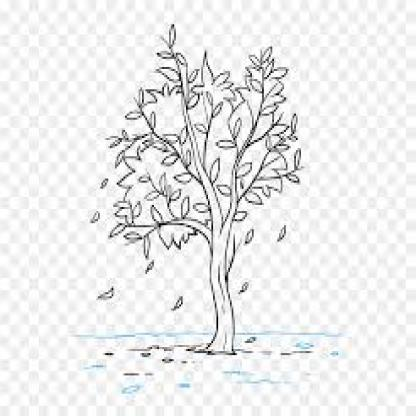branch_sharp: (110, 23, 303, 246)
root_none: (170, 324, 266, 362)
trunk_bark: (204, 259, 242, 324)
